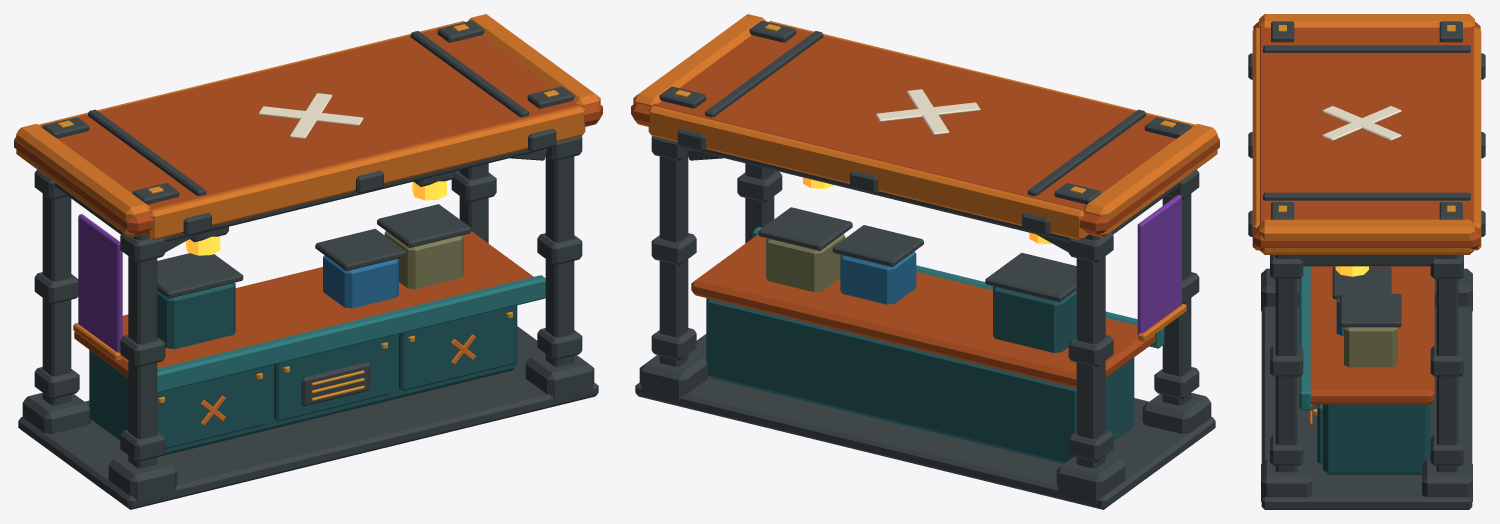
Rendered from hesperus_modular_market_stall.glb.
3 renders of one model, left to right at view 1: azimuth 30°, elevation 25°; view 2: azimuth 150°, elevation 25°; view 3: azimuth 270°, elevation 25°, orthographic. The views are drawn at different scales.
Visible parts, largest first — view 1: HMS_canopy_main, HMS_frame_base_plinth, HMS_canopy_edge_front, HMS_counter_top, HMS_counter_top_edge, HMS_counter_front_panel_03, HMS_counter_body, HMS_counter_front_panel_01, HMS_banner_left, HMS_counter_front_panel_02, HMS_frame_post_front_left, HMS_frame_post_front_right (+28 smaller); view 2: HMS_canopy_main, HMS_counter_body, HMS_counter_top, HMS_frame_base_plinth, HMS_canopy_edge_rear, HMS_banner_left, HMS_frame_post_rear_left, HMS_frame_post_rear_right, HMS_canopy_end_cap_left, HMS_prop_crate_teal_large, HMS_prop_crate_olive_small, HMS_prop_crate_blue_small (+23 smaller); view 3: HMS_canopy_main, HMS_counter_top, HMS_frame_base_plinth, HMS_counter_body, HMS_canopy_end_cap_right, HMS_frame_post_front_right, HMS_frame_post_rear_right, HMS_canopy_end_cap_left, HMS_prop_crate_olive_small, HMS_prop_crate_lid_olive_small, HMS_canopy_top_seam_+1.78, HMS_canopy_top_seam_-1.78 (+23 smaller).
Part boxes in pixels (bbox=[...]): HMS_canopy_main: bbox=[14, 23, 602, 235]; HMS_frame_base_plinth: bbox=[18, 326, 598, 509]; HMS_canopy_edge_front: bbox=[145, 106, 585, 240]; HMS_counter_top: bbox=[74, 231, 533, 377]; HMS_counter_top_edge: bbox=[157, 275, 545, 392]; HMS_counter_front_panel_03: bbox=[399, 305, 516, 390]; HMS_counter_body: bbox=[89, 305, 517, 455]; HMS_counter_front_panel_01: bbox=[157, 366, 266, 448]; HMS_banner_left: bbox=[78, 214, 122, 352]; HMS_counter_front_panel_02: bbox=[274, 336, 391, 421]; HMS_frame_post_front_left: bbox=[128, 256, 157, 468]; HMS_frame_post_front_right: bbox=[545, 155, 574, 366]; HMS_canopy_main: bbox=[631, 23, 1219, 235]; HMS_counter_body: bbox=[706, 298, 1134, 464]; HMS_counter_top: bbox=[691, 234, 1155, 388]; HMS_frame_base_plinth: bbox=[635, 334, 1215, 509]; HMS_canopy_edge_rear: bbox=[648, 106, 1088, 240]; HMS_banner_left: bbox=[1137, 194, 1181, 335]; HMS_frame_post_rear_left: bbox=[1076, 256, 1105, 468]; HMS_frame_post_rear_right: bbox=[659, 155, 688, 366]; HMS_canopy_end_cap_left: bbox=[1083, 123, 1217, 237]; HMS_prop_crate_teal_large: bbox=[993, 286, 1076, 352]; HMS_prop_crate_olive_small: bbox=[766, 234, 845, 292]; HMS_prop_crate_blue_small: bbox=[840, 251, 916, 304]; HMS_canopy_main: bbox=[1253, 21, 1480, 249]; HMS_counter_top: bbox=[1310, 266, 1434, 404]; HMS_frame_base_plinth: bbox=[1261, 306, 1472, 509]; HMS_counter_body: bbox=[1323, 404, 1430, 474]; HMS_canopy_end_cap_right: bbox=[1259, 219, 1474, 254]; HMS_frame_post_front_right: bbox=[1275, 279, 1297, 472]; HMS_frame_post_rear_right: bbox=[1436, 279, 1458, 472]; HMS_canopy_end_cap_left: bbox=[1259, 14, 1474, 27]; HMS_prop_crate_olive_small: bbox=[1344, 327, 1397, 367]; HMS_prop_crate_lid_olive_small: bbox=[1340, 293, 1401, 327]; HMS_canopy_top_seam_+1.78: bbox=[1263, 192, 1470, 200]; HMS_canopy_top_seam_-1.78: bbox=[1263, 45, 1470, 52].
Size of what is drawn, in the model's own units: 5.25 by 3.22 by 2.42.
